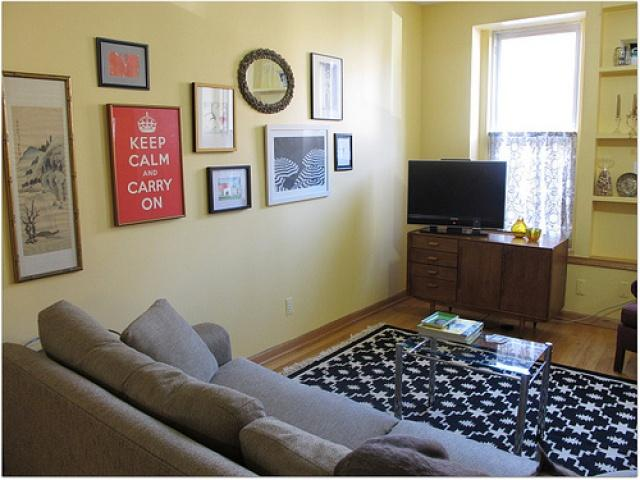AIO PC-Monitor-TV: (405, 159, 506, 236)
